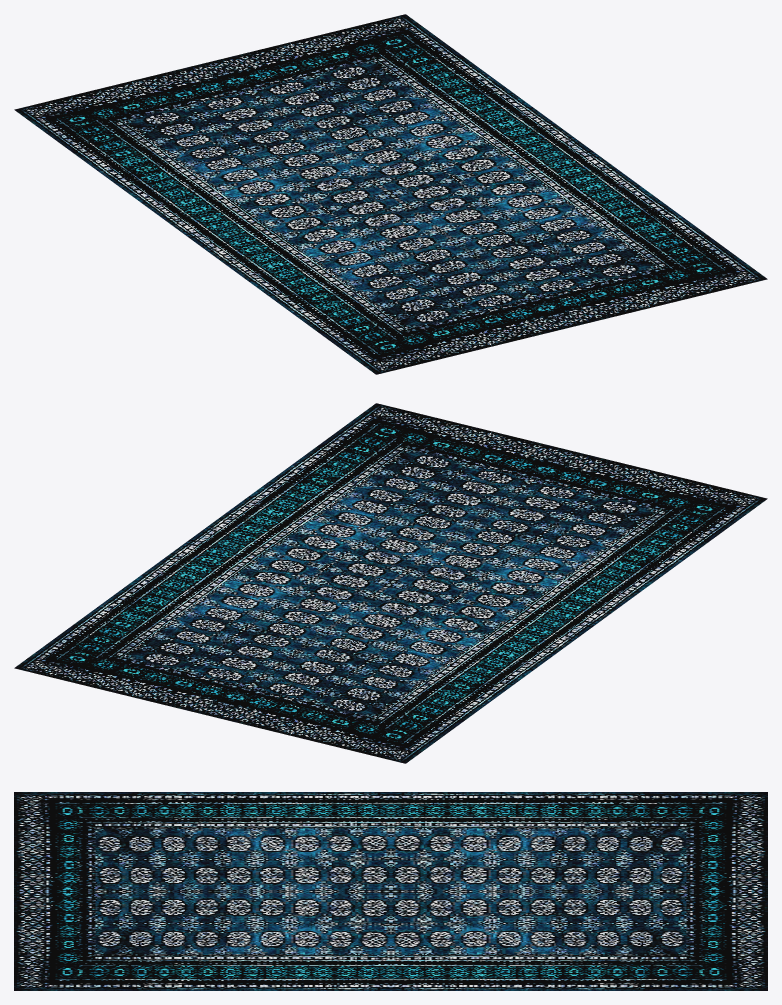
File: frn_all_rug_rectangle_m_s03.fbx
3 renders of one model, top to bottom at view 1: azimuth 30°, elevation 25°; view 2: azimuth 150°, elevation 25°; view 3: azimuth 270°, elevation 25°, orthographic. The views are drawn at different scales.
Parts seen in each view (by area): view 1: mesh_node; view 2: mesh_node; view 3: mesh_node.
Boxes of the visible parts, x1,y1,x2,y2 form: mesh_node: (14, 14, 767, 374); mesh_node: (14, 403, 767, 763); mesh_node: (14, 792, 767, 990).
Bounding box in the file's own units: 3.68 × 0 × 5.9.
Materials: 1 (1 with a texture image).
